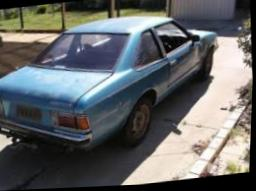Door: (185, 41, 208, 78)
